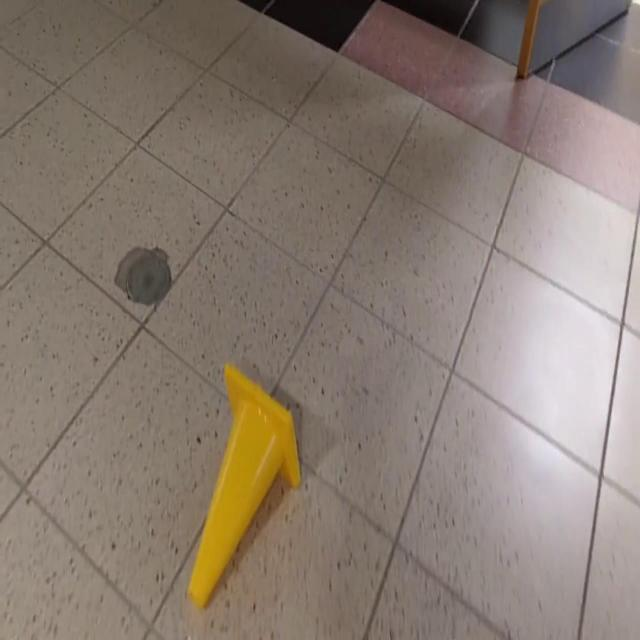frc_cone: (186, 364, 302, 606)
